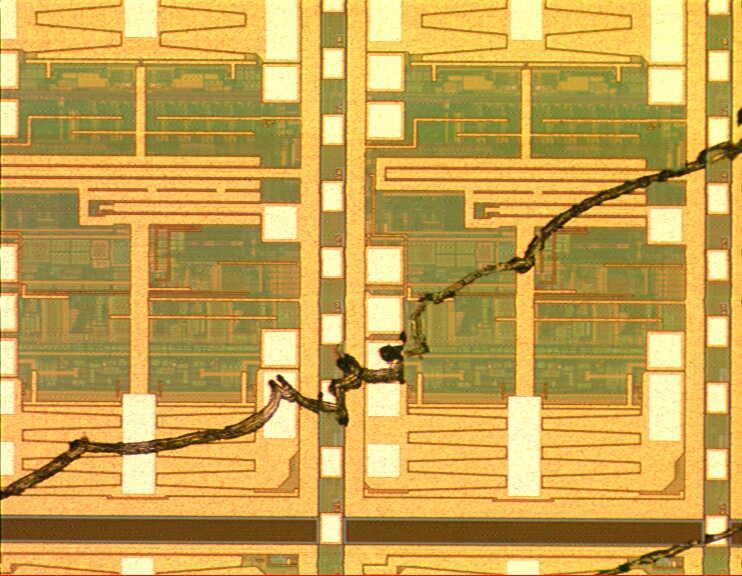SCRATCH: (1, 102, 742, 576)
